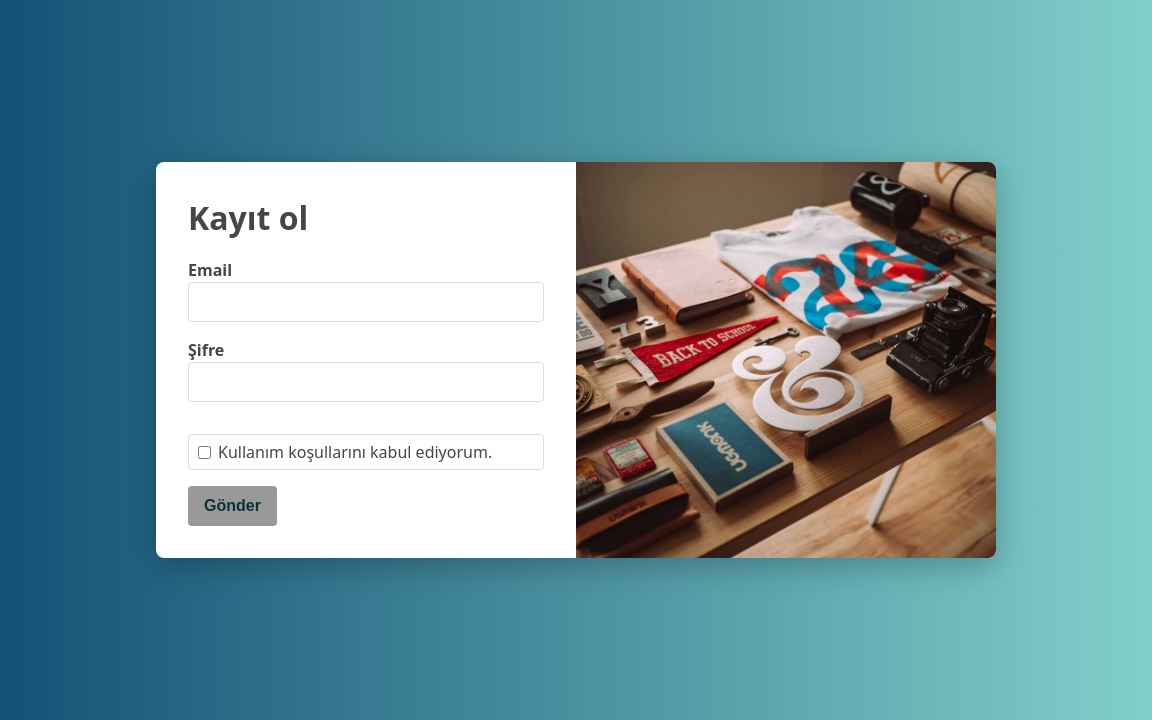
Test: Form doğru bilgiler ile doldurulunca Gönder butonu enabled oluyor mu?
Expected: the button with test id "send" is disabled, 188,486 -> 277,526
Type "omer@code2work.co" into the field with test id "email".
click(366, 302); type("omer@code2work.co")  # box 188,282 -> 544,322
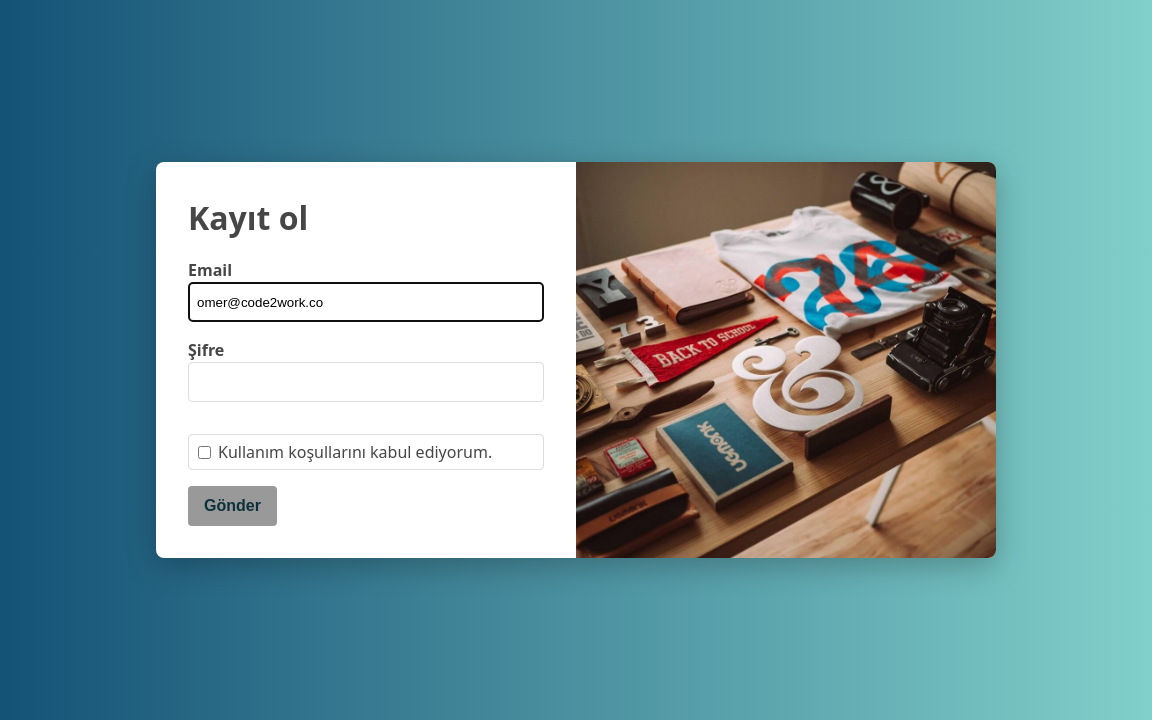
Type "123456" into the password field with test id "password".
click(366, 382); type("123456")  # box 188,362 -> 544,402
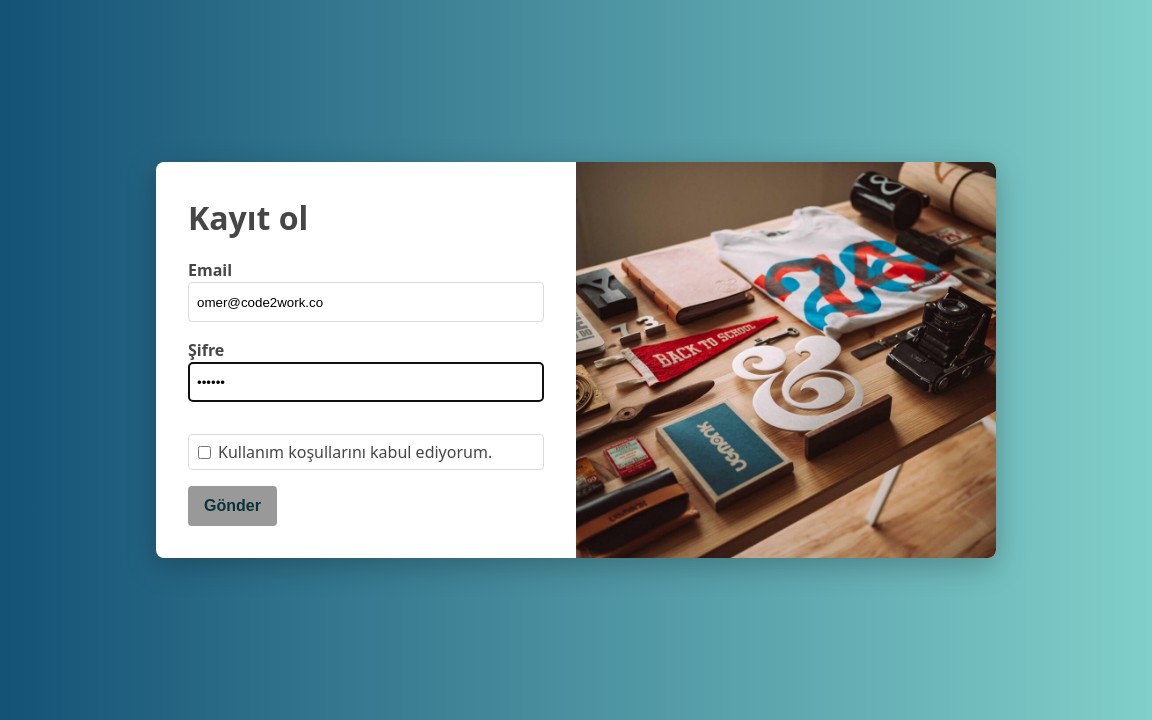
Click the checkbox with test id "terms".
click(204, 452)  # box 198,446 -> 211,458
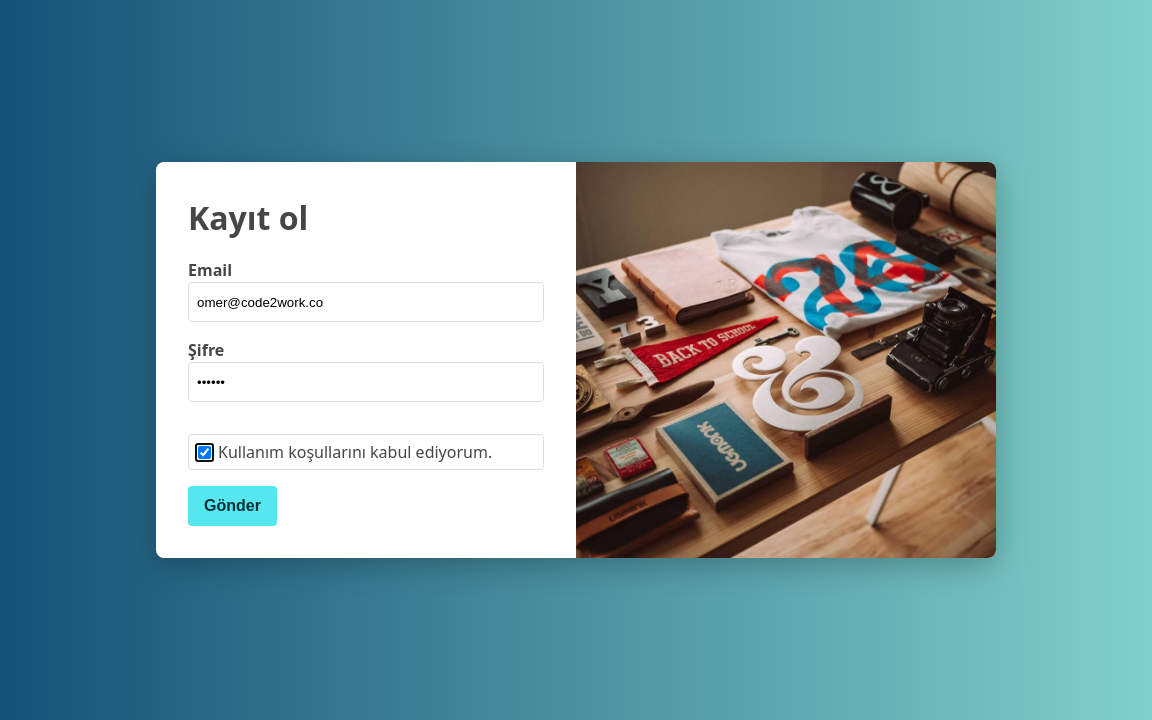
Result: the button with test id "send" is enabled at 188,486 -> 277,526
